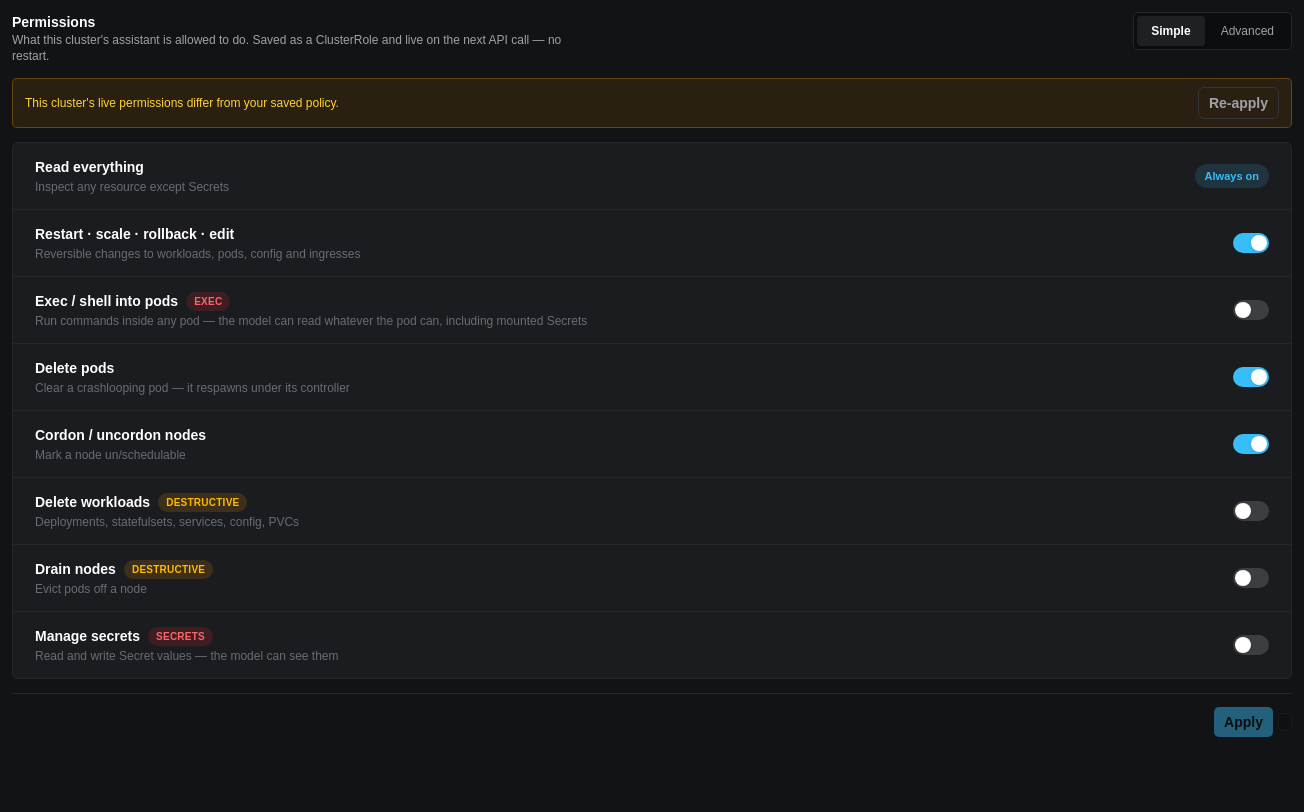
Test: PermissionsTab › a failed Re-apply from the drift banner shows the error inline
The width and height of the screenshot is (1304, 812).
Expected: the text "live permissions differ from your saved policy" is shown, [25,96,339,110]
What coordinates should you click on to do the following:
click the button "Re-apply"
I would click on:
 (1238, 103)
Its box is [1198,87,1279,119].
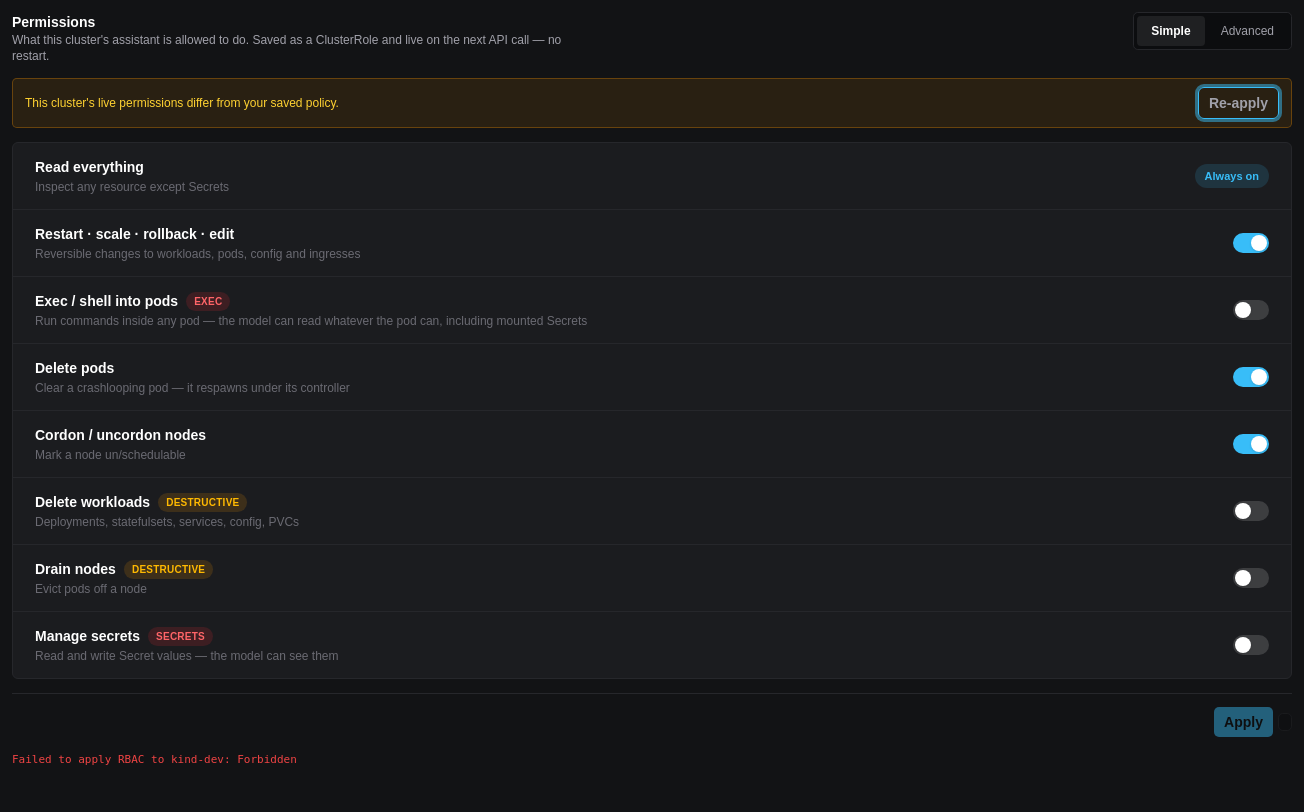
Result: the text "Failed to apply RBAC to kind-dev: Forbidden" is shown at [12,753,297,766]
